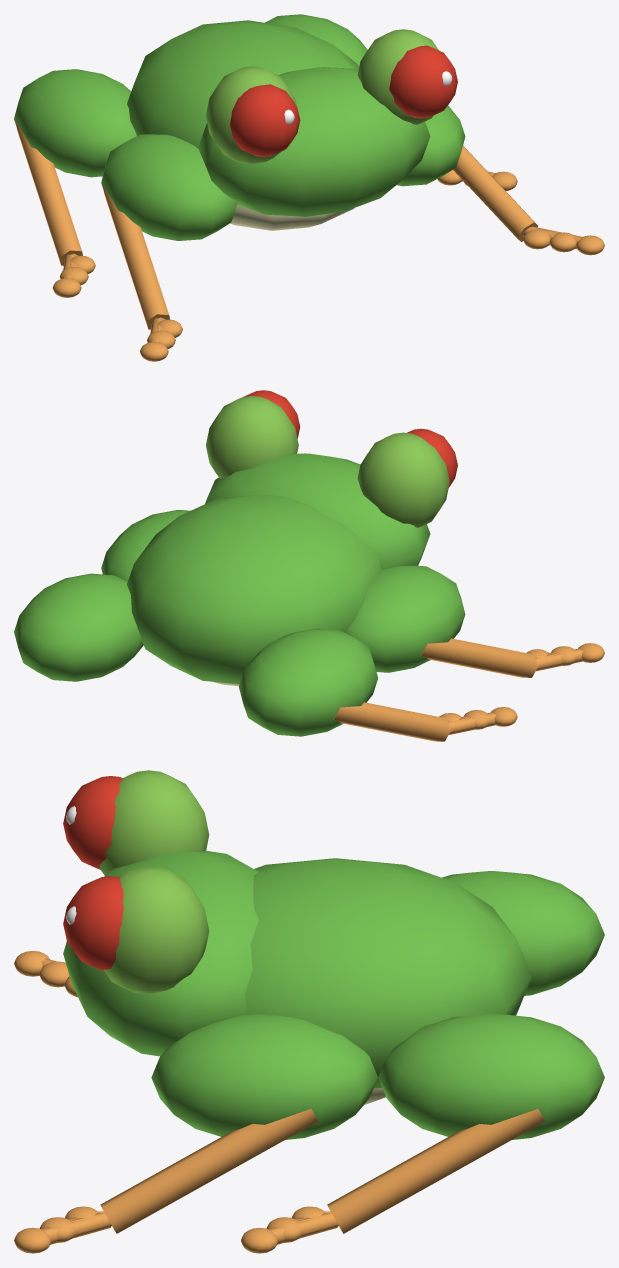
Rendered from frog.glb.
3 views of the same model, one above another, from view 1: azimuth 30°, elevation 25°; view 2: azimuth 150°, elevation 25°; view 3: azimuth 270°, elevation 25° (orthographic). The views are drawn at different scales.
Parts seen in each view (by area): view 1: skin (×6), accent (×3), eye (×2), eye-lid (×2), belly; view 2: skin (×6), eye-lid (×2), accent (×2), eye (×2); view 3: skin (×5), accent (×7), eye-lid (×2), eye (×2).
Boxes of the visible parts, x1,y1,x2,y2 form: skin (×6): (14,14,465,240); accent (×3): (15,122,537,329); eye (×2): (230,45,457,156); eye-lid (×2): (206,29,438,164); belly: (230,204,354,230); skin (×6): (14,453,465,736); eye-lid (×2): (206,396,449,527); accent (×2): (333,638,538,741); eye (×2): (244,390,457,487); skin (×5): (63,850,604,1139); accent (×7): (14,951,544,1253); eye-lid (×2): (99,770,209,994); eye (×2): (63,776,123,970).
Size of the model in its own units: 2.75 by 1.28 by 2.35.
